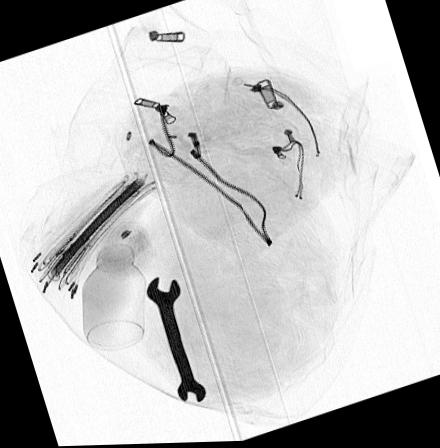Wrench: (143, 275, 207, 405)
